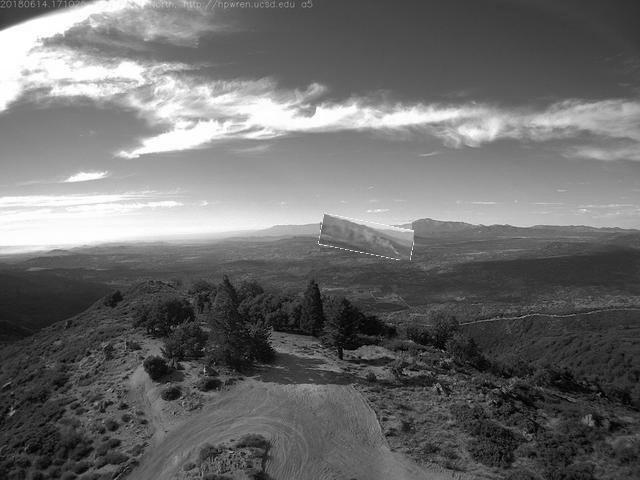smoke: (320, 219, 415, 258)
